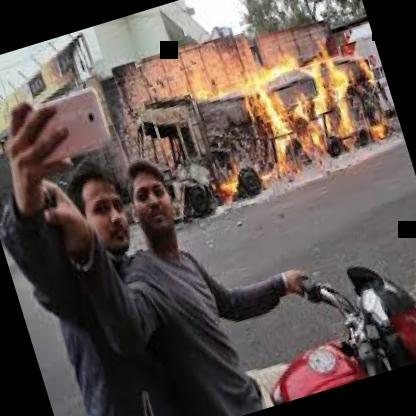fire: (154, 38, 396, 217)
